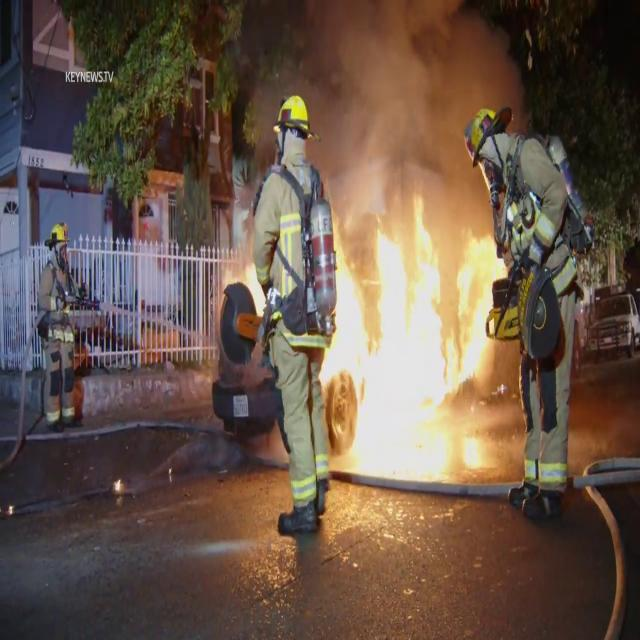Fire: (318, 202, 496, 436)
Smoke: (225, 0, 523, 220)
